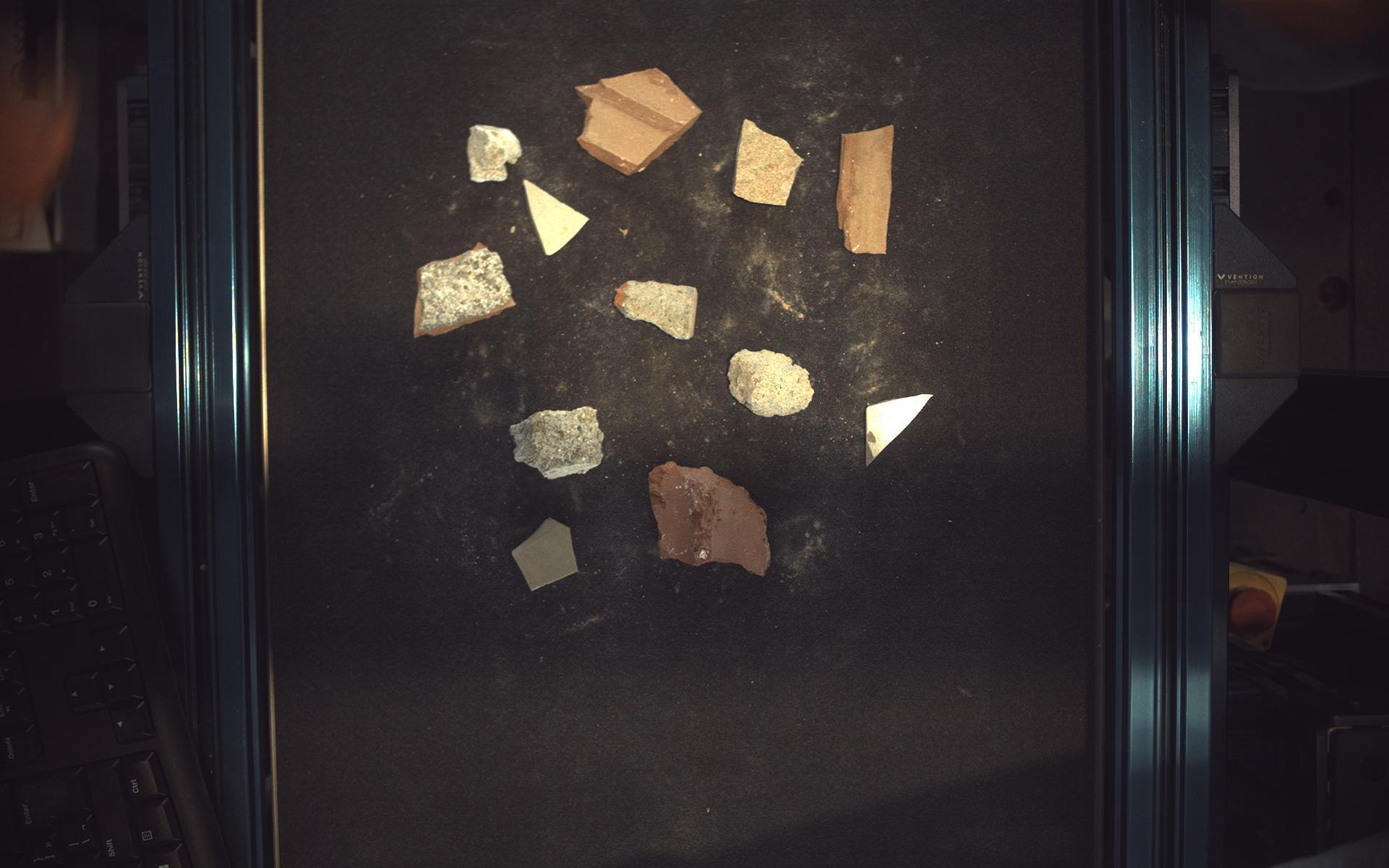brick: (650, 461, 772, 576), (577, 67, 702, 174), (413, 242, 514, 337), (838, 124, 895, 253)
concrete: (510, 407, 605, 480), (729, 349, 815, 417), (615, 280, 699, 339), (467, 124, 522, 182)
tile: (734, 118, 804, 205), (524, 179, 590, 255), (512, 518, 578, 592), (867, 395, 933, 464)
